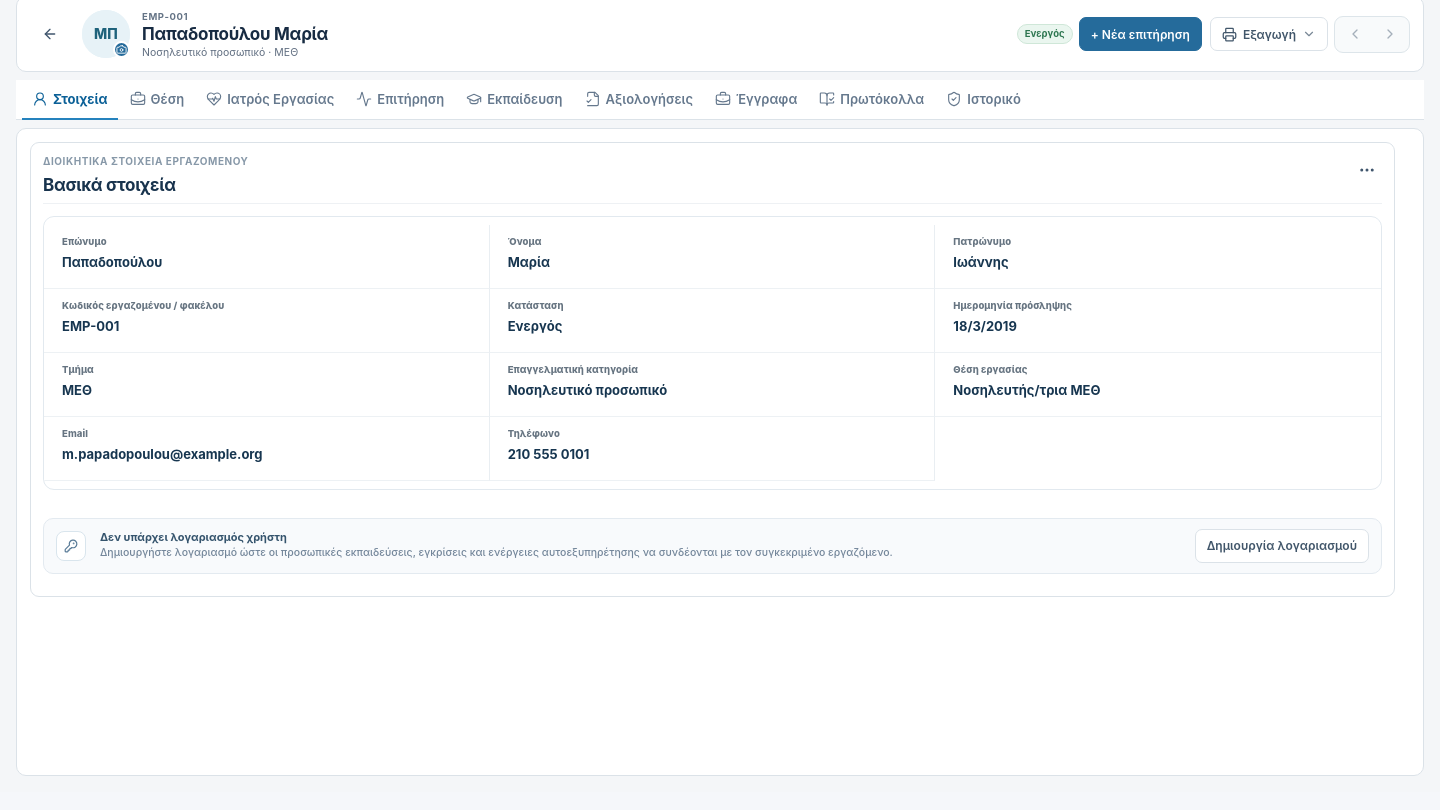
Test case: training and evaluations › shows a knowledge assessment from Training with its questionnaire review
Expected: the tab "Στοιχεία" is shown, 22,80 -> 118,120
Click the tab "Αξιολογήσεις" at (639, 100), box 575,80 -> 703,120
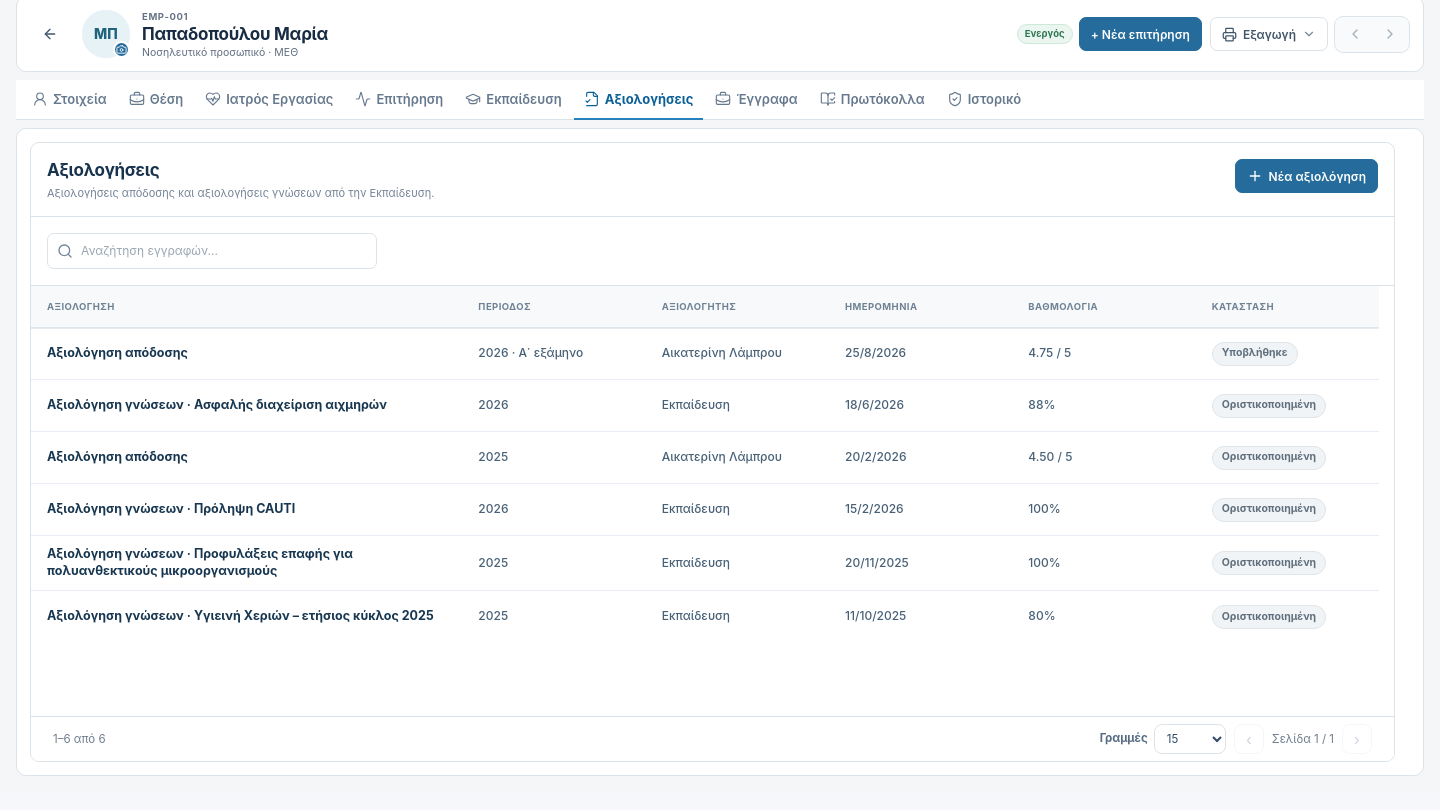
Click the text "Αξιολόγηση γνώσεων · Ασφαλής διαχείριση αιχμηρών" at (705, 406), box 31,380 -> 1379,432
(page scrolled)
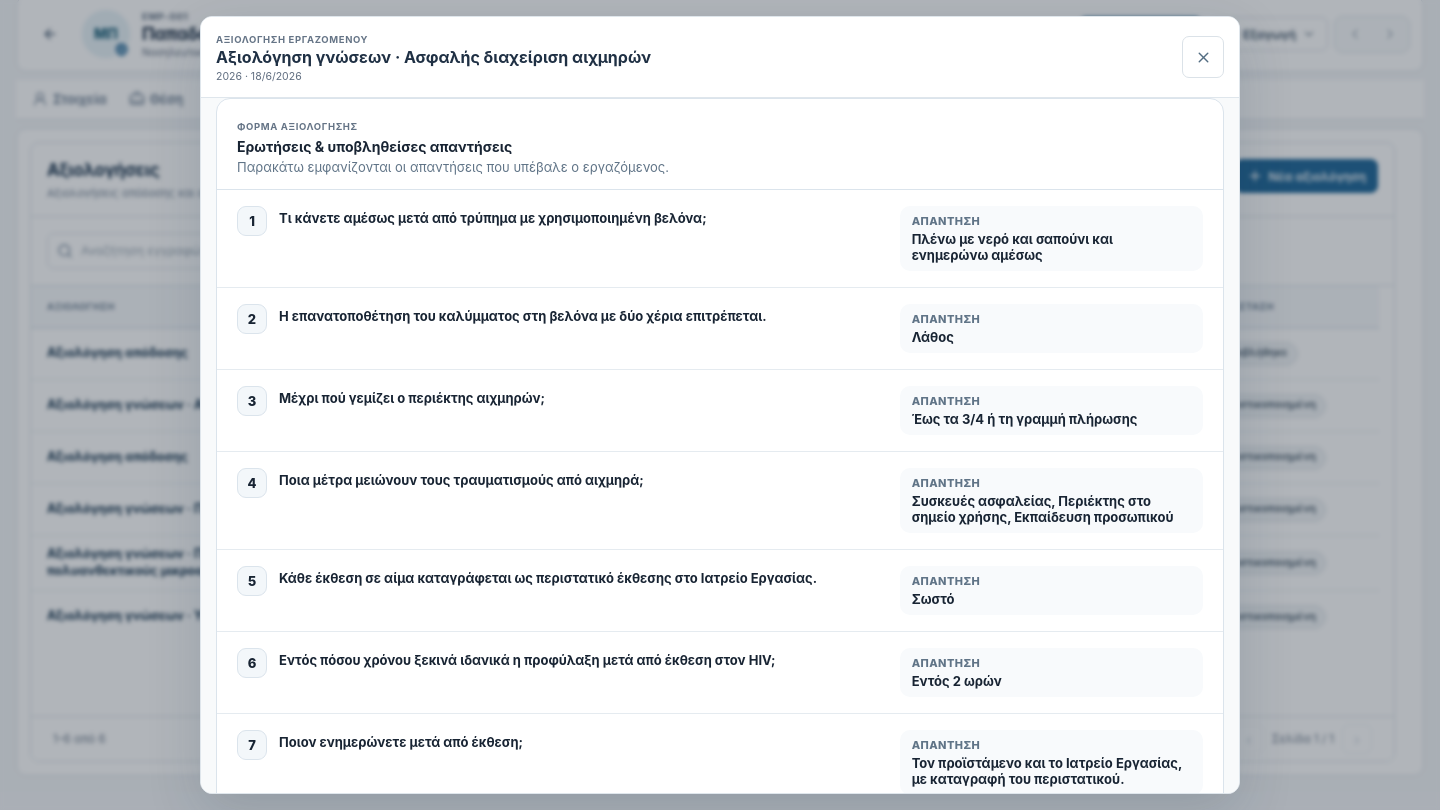
Now the element with class "training-assessment-review" is shown
